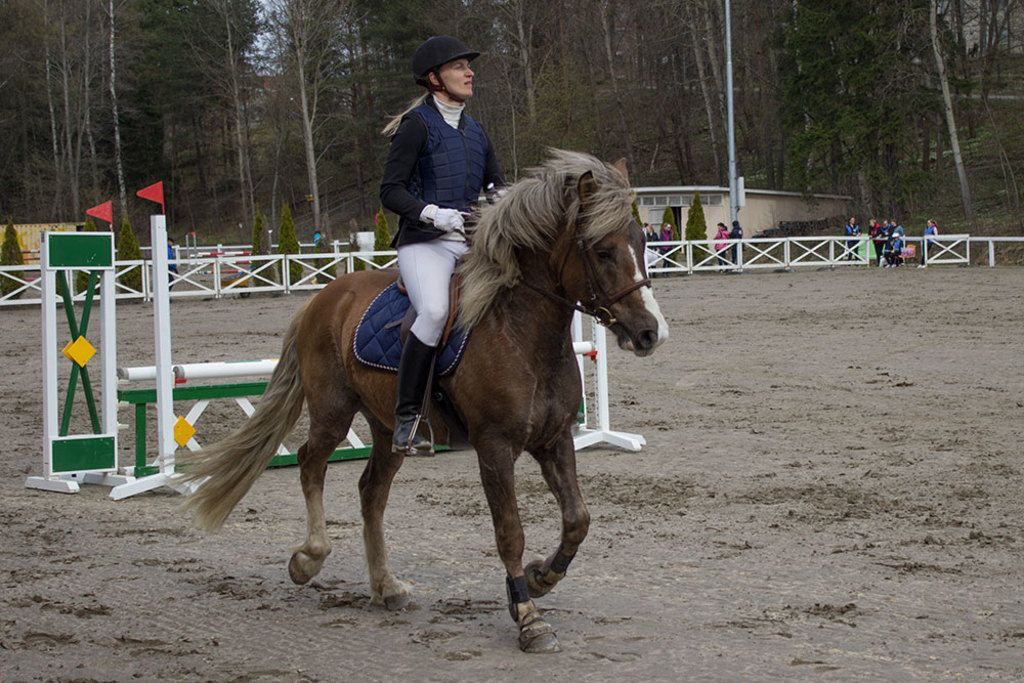horse: (159, 147, 668, 653)
